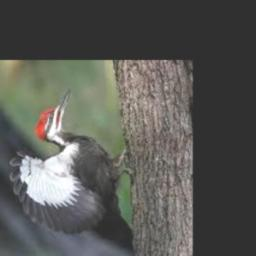Woodpecker: (9, 87, 131, 237)
